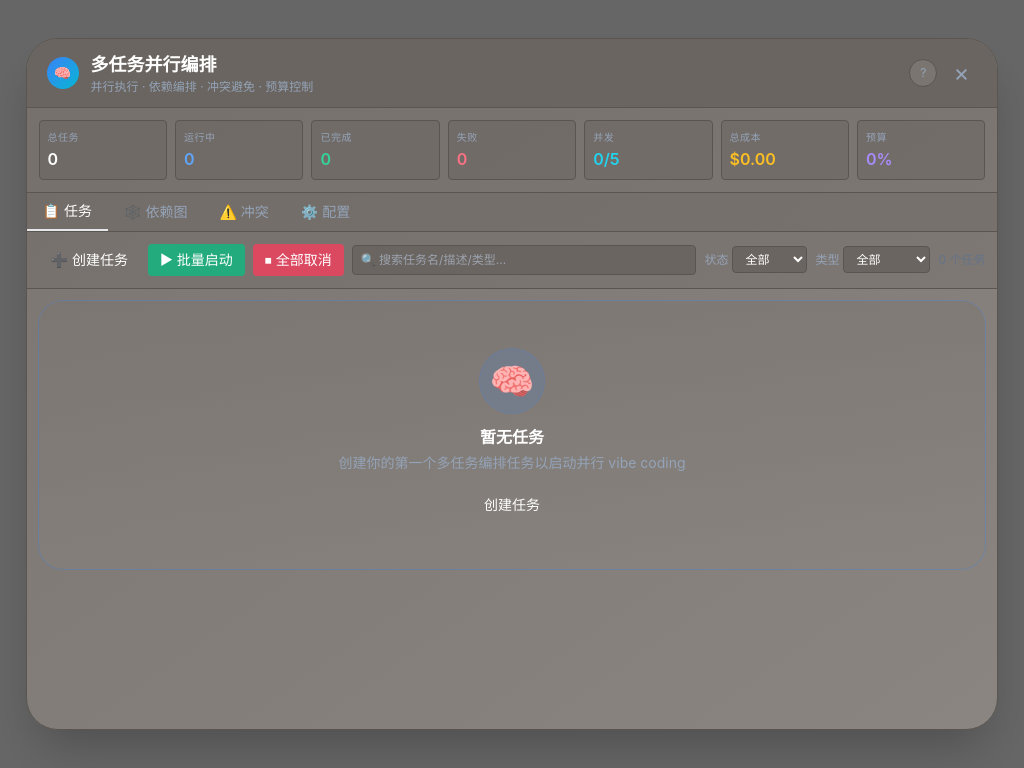
Scenario: MultiTaskOrchestrationPanel › 应能切换到配置标签
What coordinates should you click on to do the following:
click the button with test id "multi-task-tab-config"
I would click on:
 (326, 212)
Its box is [285,193,366,231].
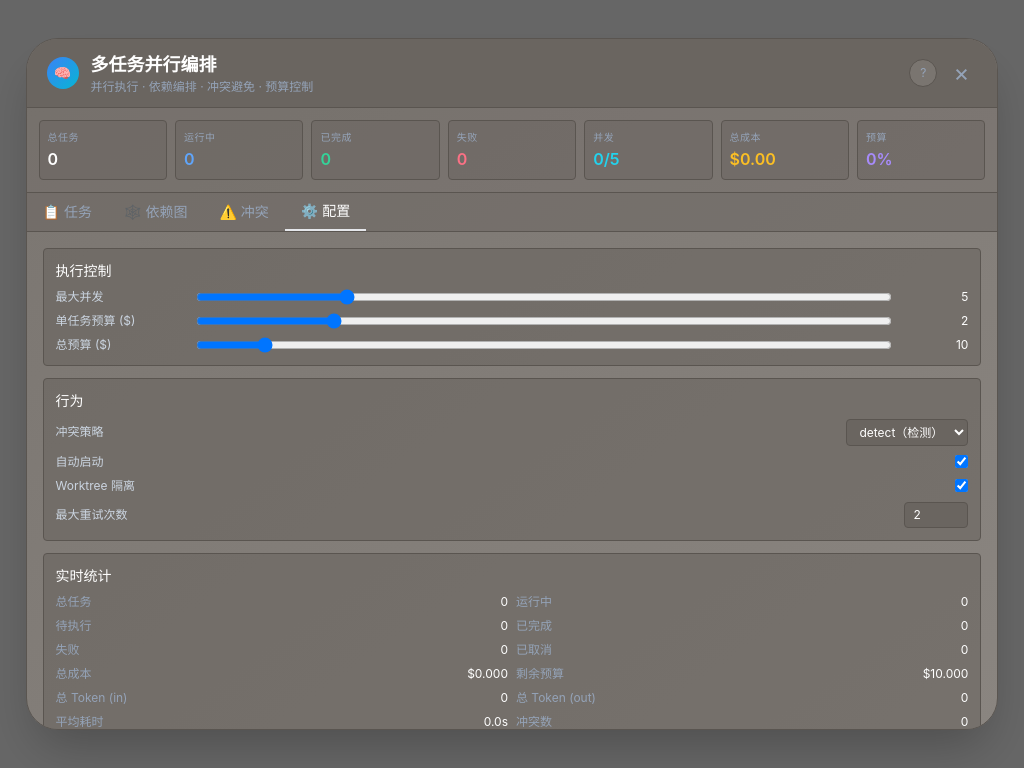
expect the slider with test id "config-max-concurrent" is shown: met, box [196,289,892,305]
expect the dropdown with test id "config-conflict-policy" is shown: met, box [846,419,968,446]
expect the checkbox with test id "config-auto-start" is shown: met, box [955,455,968,468]
